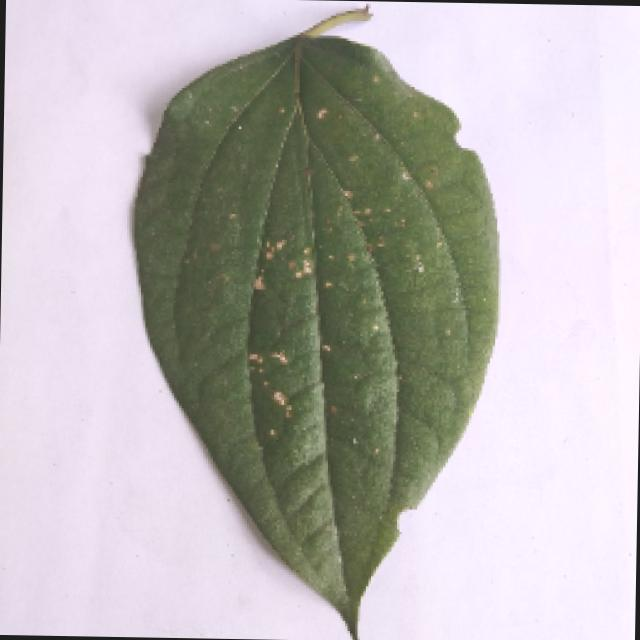pollu-disease: (122, 9, 503, 636)
